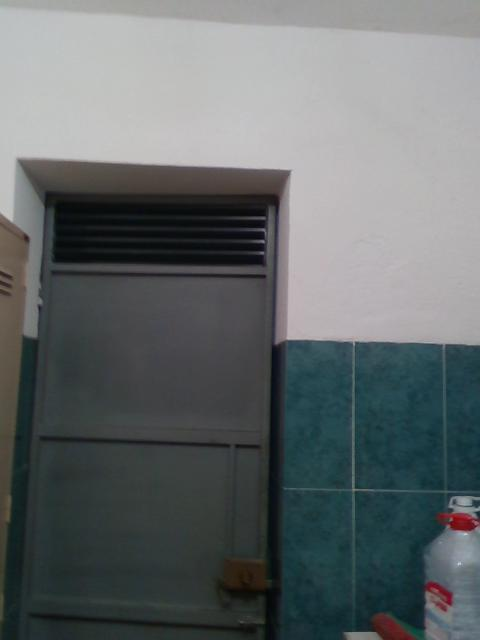door: (23, 188, 278, 634)
